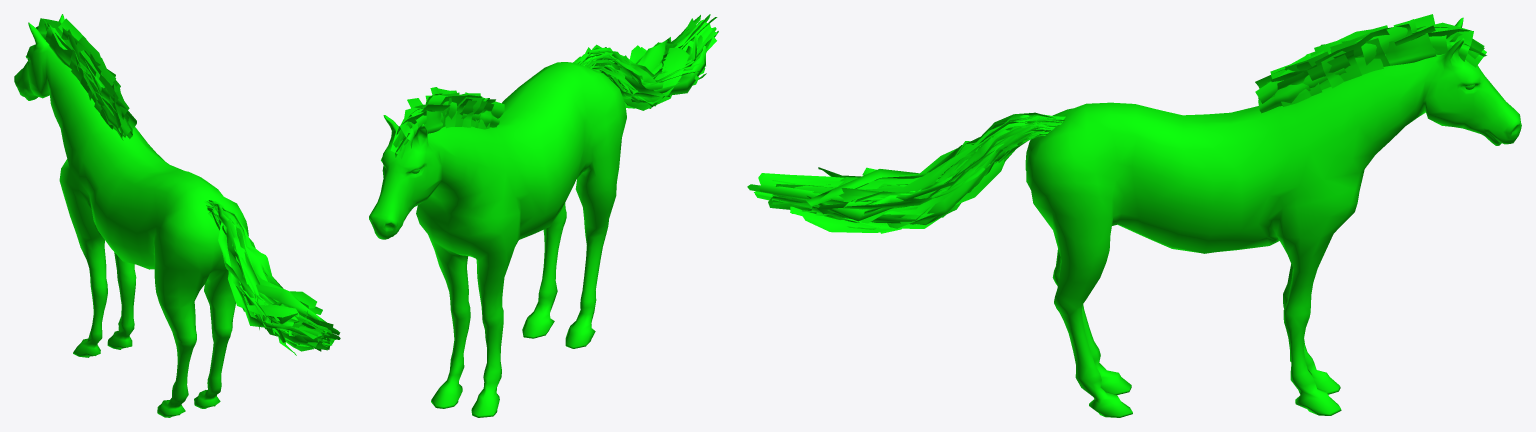
Rendered from rocinante.obj.
3 views of the same model, side by side, from view 1: azimuth 30°, elevation 25°; view 2: azimuth 150°, elevation 25°; view 3: azimuth 270°, elevation 25° (orthographic). The views are drawn at different scales.
Visible parts, largest first — view 1: rocinante_Horse; view 2: rocinante_Horse; view 3: rocinante_Horse.
Boxes of the visible parts, box(x1,y1,x2,y2) form: rocinante_Horse: box(14, 14, 340, 417); rocinante_Horse: box(369, 14, 718, 417); rocinante_Horse: box(747, 14, 1521, 417).
Size of the model in its own units: 0.6943 by 2.34 by 4.34.
